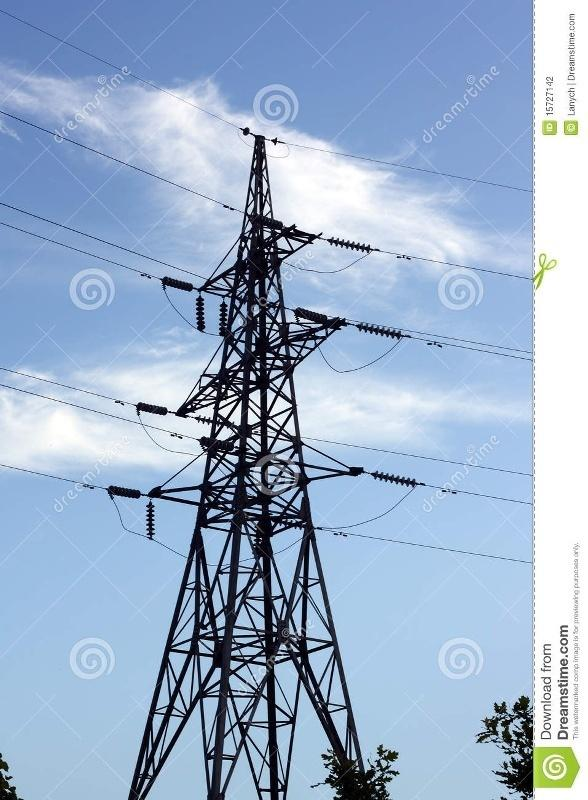power_tower: (133, 119, 389, 735)
